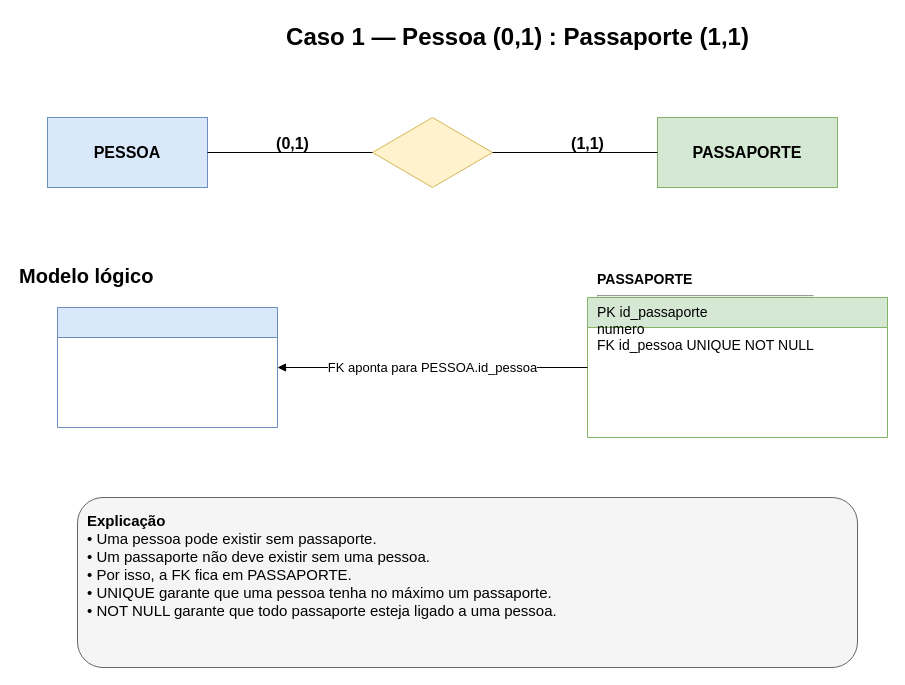
Some shapes in this 905 by 685 pixel diagram are drawn without their labels. The shapes that lost their labels are listed below. From the top down, each one's box as (x1, y1, x2, y2) in pixels, then its label:
(372, 116, 492, 188): possui
(56, 306, 278, 428): PESSOA PK id_pessoa nome
